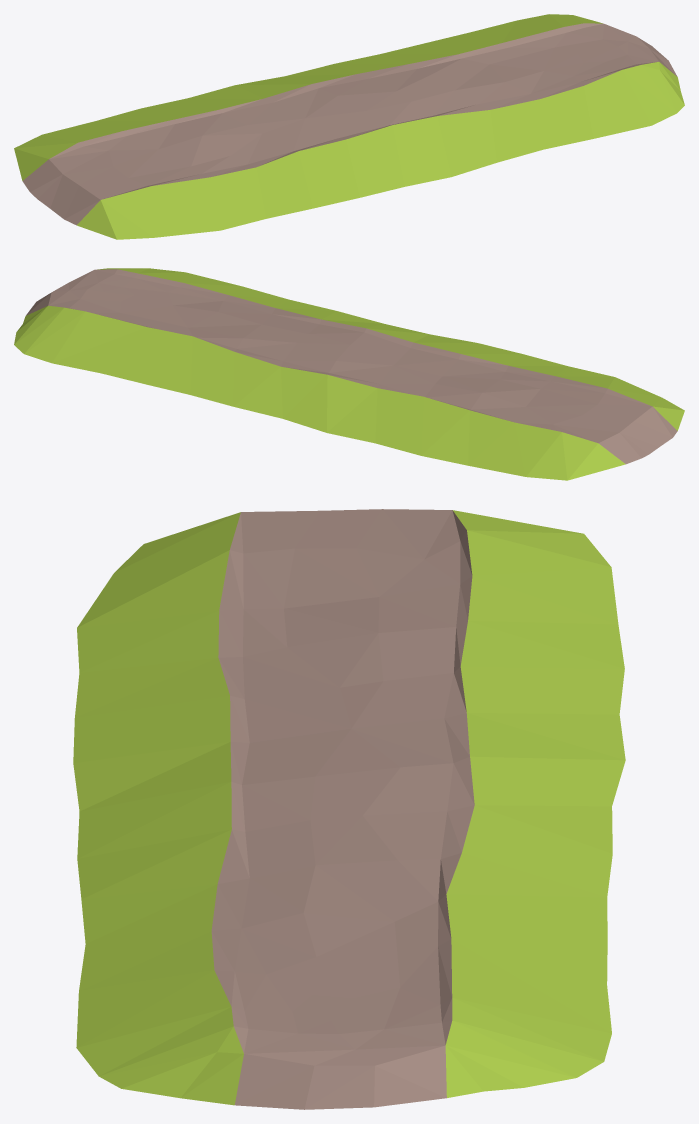
File: Road_001.glb
The picture shows the model from 3 angles, top to bottom: view 1: azimuth 30°, elevation 25°; view 2: azimuth 150°, elevation 25°; view 3: azimuth 270°, elevation 25°; orthographic projection. The views are drawn at different scales.
Visible parts, largest first — view 1: Road_001; view 2: Road_001; view 3: Road_001.
Boxes of the visible parts, box(x1,y1,x2,y2) form: Road_001: box(14, 14, 684, 239); Road_001: box(14, 268, 684, 480); Road_001: box(73, 509, 625, 1109).
Bounding box in the file's own units: 75.13 × 3.64 × 29.32.
Materials: 1 (1 with a texture image).
